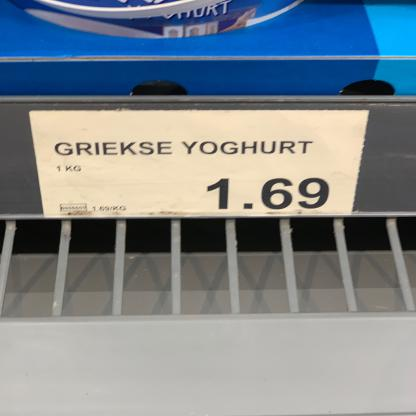prtg: (29, 111, 371, 219)
